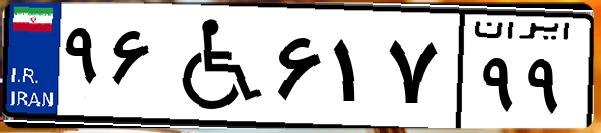1: (330, 28, 385, 110)
6: (270, 28, 330, 110), (110, 28, 158, 98)
7: (385, 28, 445, 110)
9: (57, 26, 110, 100), (475, 38, 525, 113), (525, 38, 570, 115)
ژ (معلولین و جانبازان): (158, 12, 270, 120)
